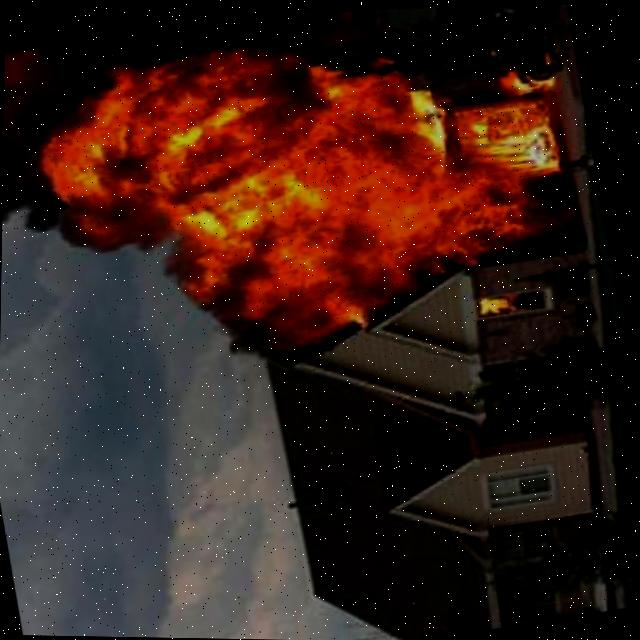fire: (47, 14, 505, 365), (480, 95, 568, 189), (501, 62, 570, 105), (483, 294, 521, 322)
